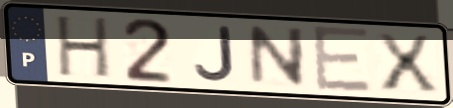2: (120, 16, 174, 86)
E: (309, 23, 376, 94)
H: (55, 14, 113, 82)
J: (191, 24, 238, 84)
N: (247, 24, 309, 89)
X: (371, 30, 442, 94)
